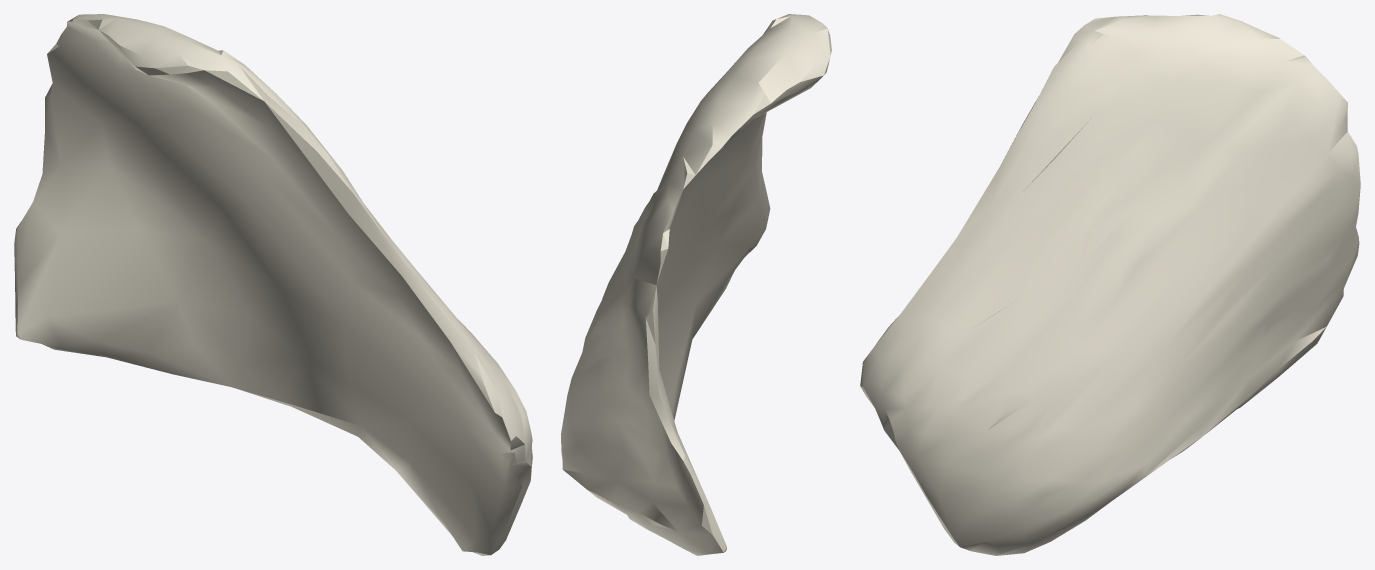
The model's file is fma326805-l_mm1478.glb.
3 views of the same model, side by side, from view 1: azimuth 30°, elevation 25°; view 2: azimuth 150°, elevation 25°; view 3: azimuth 270°, elevation 25° (orthographic). The views are drawn at different scales.
Visible parts, largest first — view 1: FMA326805-L_MM1478; view 2: FMA326805-L_MM1478; view 3: FMA326805-L_MM1478.
Boxes of the visible parts, x1,y1,x2,y2 form: FMA326805-L_MM1478: (14, 14, 532, 555); FMA326805-L_MM1478: (561, 14, 831, 555); FMA326805-L_MM1478: (860, 14, 1360, 555).
Bounding box in the file's own units: 0.00491 × 0.00808 × 0.00821.
